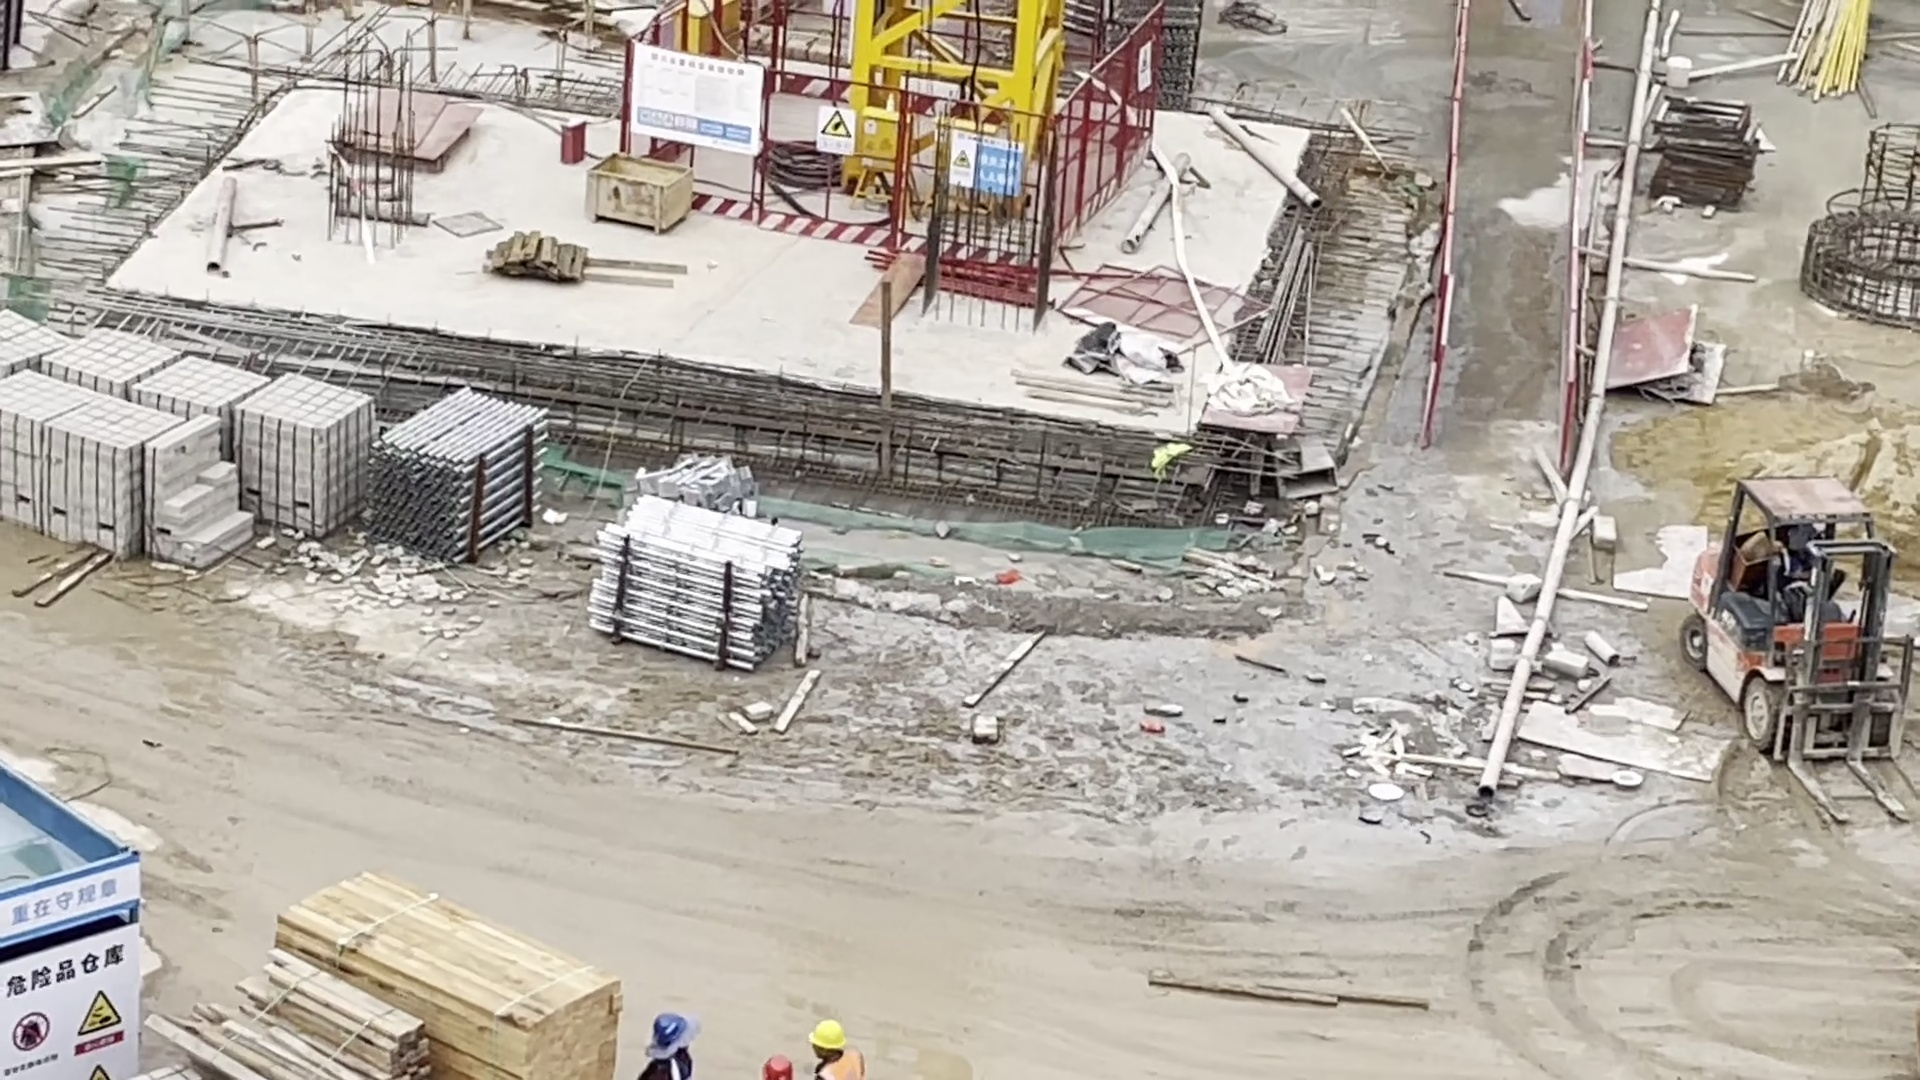brick: (2, 296, 377, 609)
ebox: (852, 98, 1012, 209), (668, 1, 755, 73)
fence: (606, 4, 1172, 257), (1427, 7, 1613, 472)
helmet: (643, 1001, 697, 1061), (804, 1010, 859, 1058), (1782, 523, 1828, 551), (751, 1056, 800, 1080)
hopper: (580, 147, 708, 231)
person: (788, 1003, 876, 1080), (629, 1001, 705, 1080), (1774, 526, 1844, 609)
scaffold: (581, 488, 803, 681), (373, 369, 541, 568)
slogan: (2, 842, 169, 1080), (626, 34, 776, 164), (931, 128, 1022, 207), (798, 107, 853, 161)
vest: (799, 1051, 894, 1078), (1778, 548, 1826, 590)
wood: (150, 858, 635, 1080)
